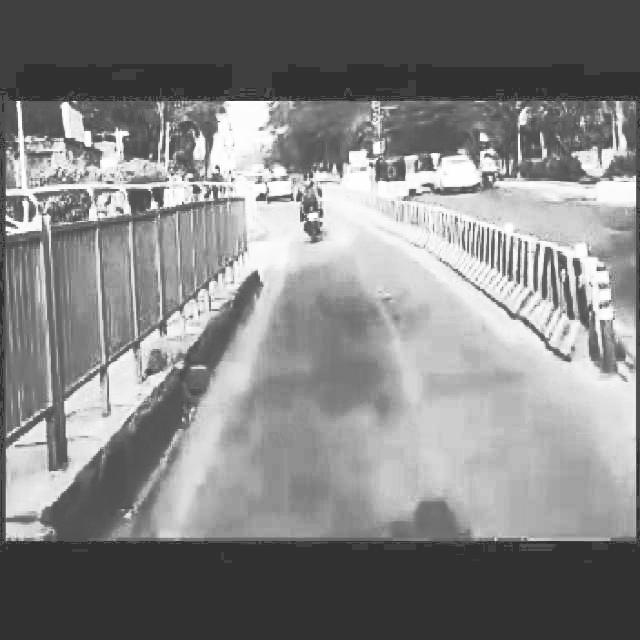Car: (429, 138, 478, 194)
